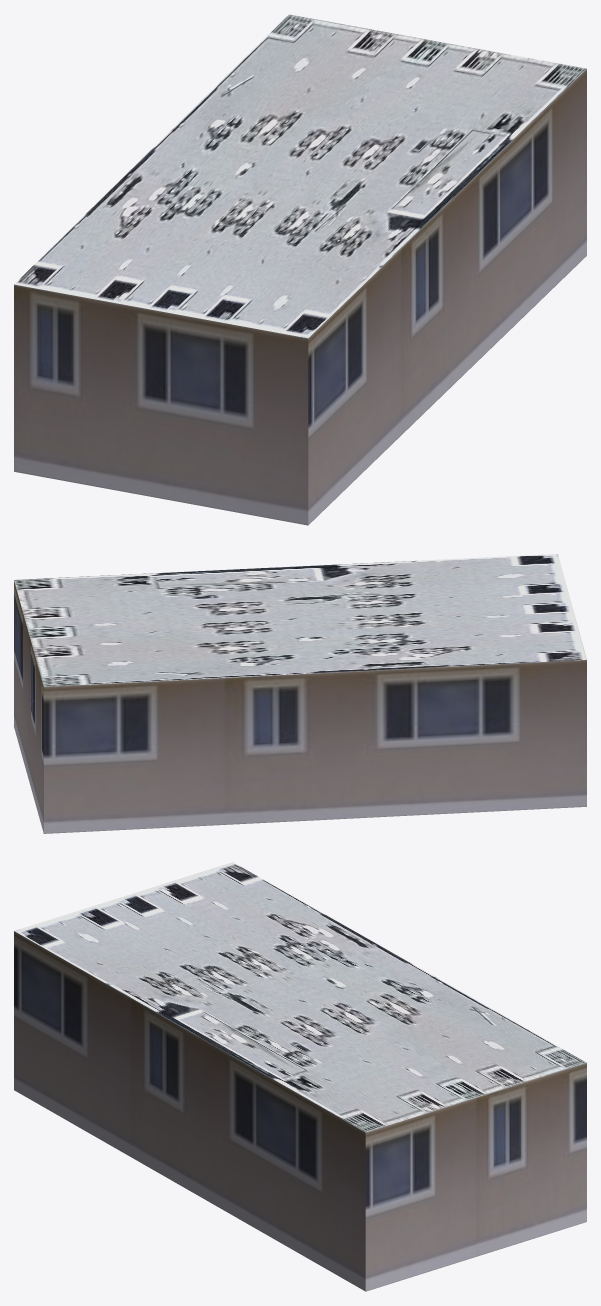
File: ResTex__2376.fbx
3 views of the same model, one above another, from view 1: azimuth 30°, elevation 25°; view 2: azimuth 150°, elevation 25°; view 3: azimuth 270°, elevation 25° (orthographic). The views are drawn at different scales.
Visible parts, largest first — view 1: CityEngineMaterial_21_m, CityEngineMaterial_4_m; view 2: CityEngineMaterial_21_m, CityEngineMaterial_4_m; view 3: CityEngineMaterial_21_m, CityEngineMaterial_4_m.
Boxes of the visible parts, x1,y1,x2,y2 form: CityEngineMaterial_21_m: (14, 69, 586, 525); CityEngineMaterial_4_m: (14, 14, 586, 338); CityEngineMaterial_21_m: (14, 581, 586, 833); CityEngineMaterial_4_m: (14, 554, 586, 686); CityEngineMaterial_21_m: (14, 931, 586, 1291); CityEngineMaterial_4_m: (14, 862, 586, 1132).
Bounding box in the file's own units: 10.92 × 3 × 9.79.
Materials: 2 (2 with a texture image).
